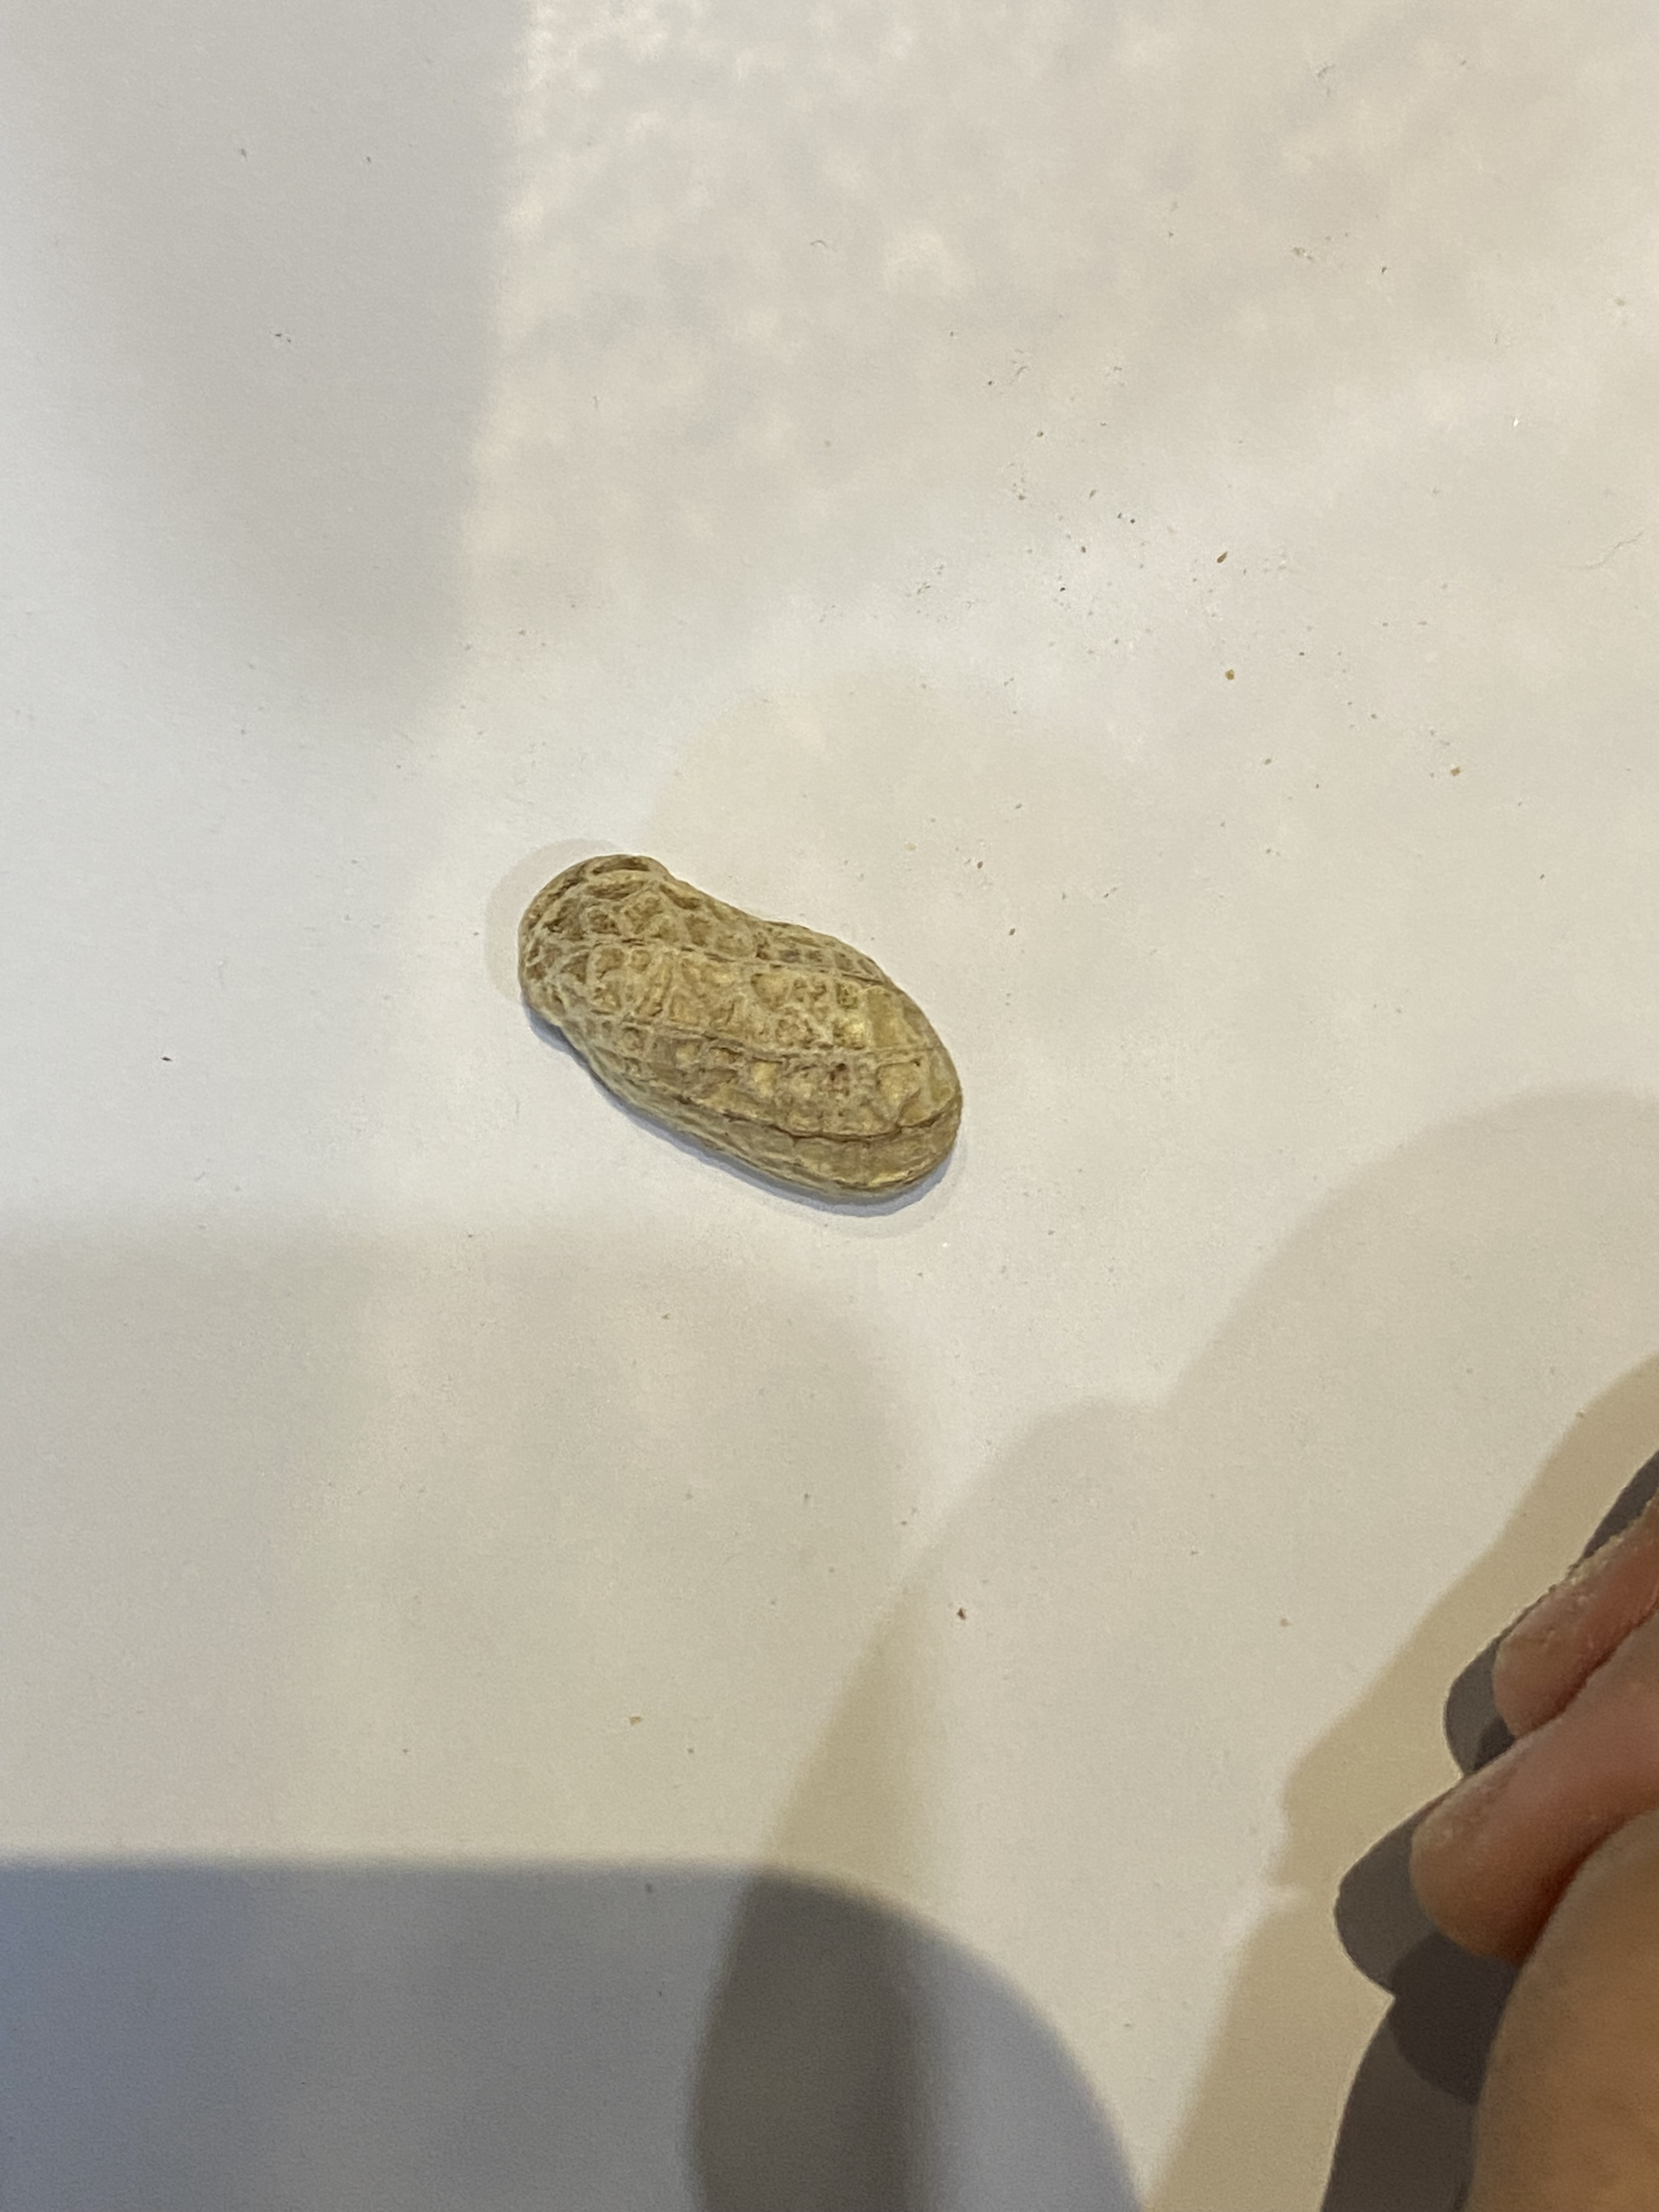kacang2: (509, 846, 983, 1221)
